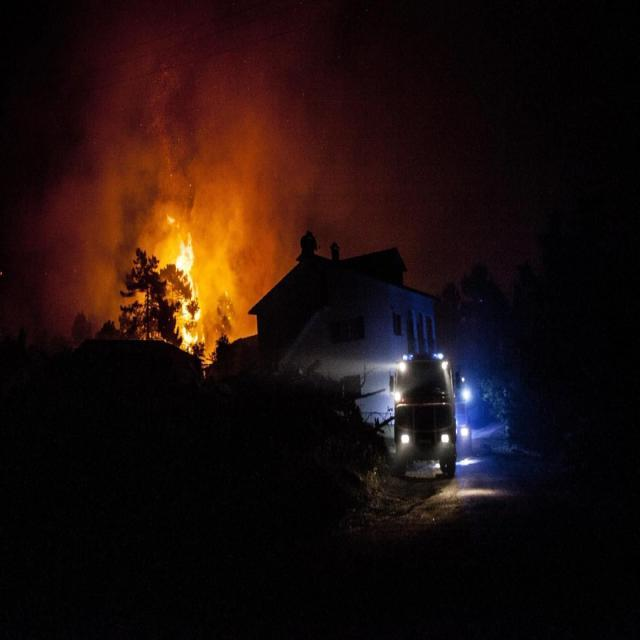Smoke: (32, 6, 186, 349), (187, 36, 325, 344)
